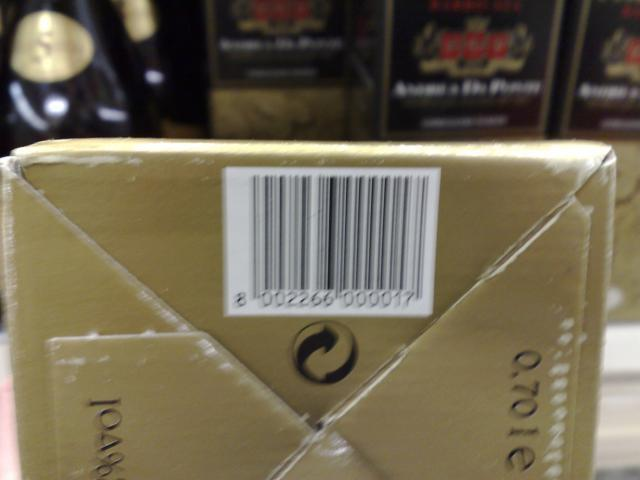Barcode: (226, 167, 436, 316)
